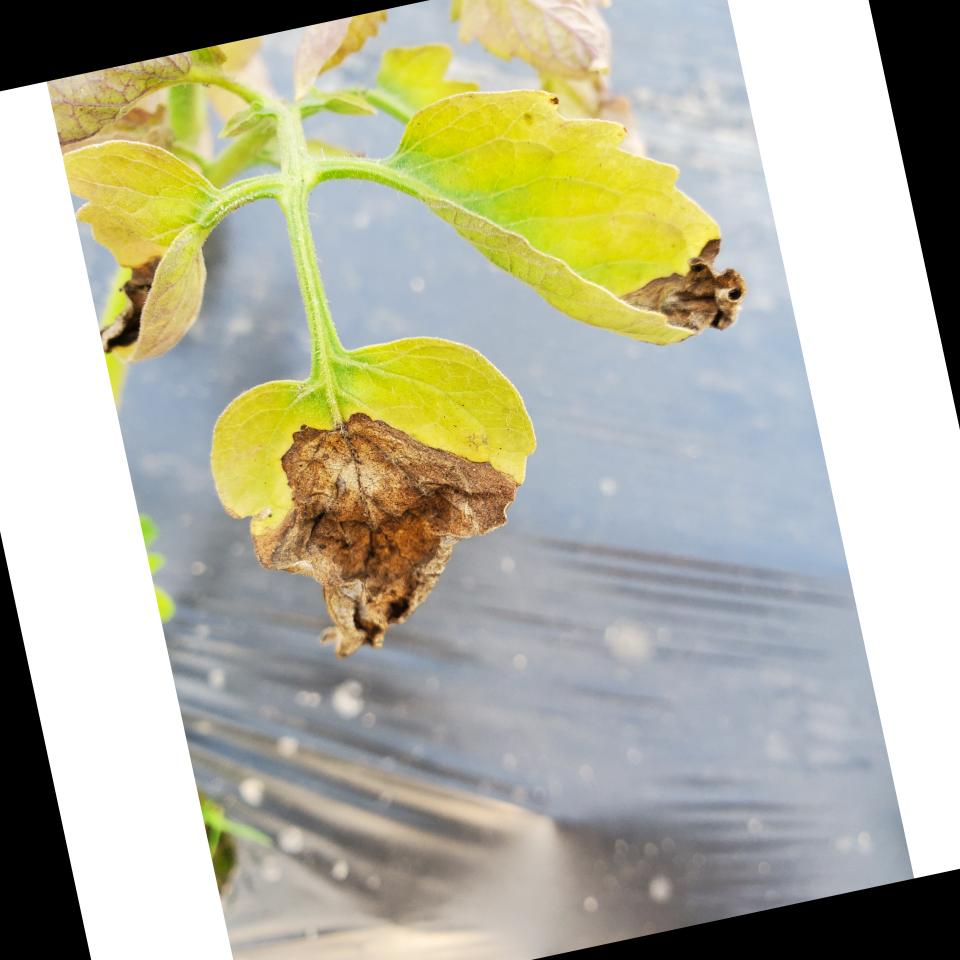tomato_yellow_leaf_curl_virus: (191, 319, 572, 675), (384, 46, 752, 392), (60, 116, 255, 368)
